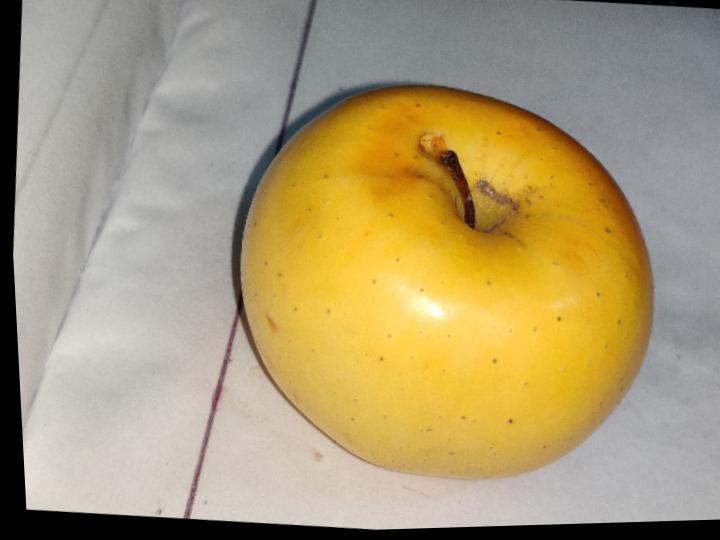apple: (241, 86, 653, 479)
surface_damage: (419, 133, 450, 159)
